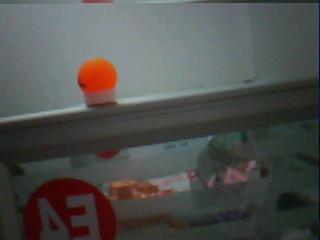oball: (76, 58, 117, 93)
